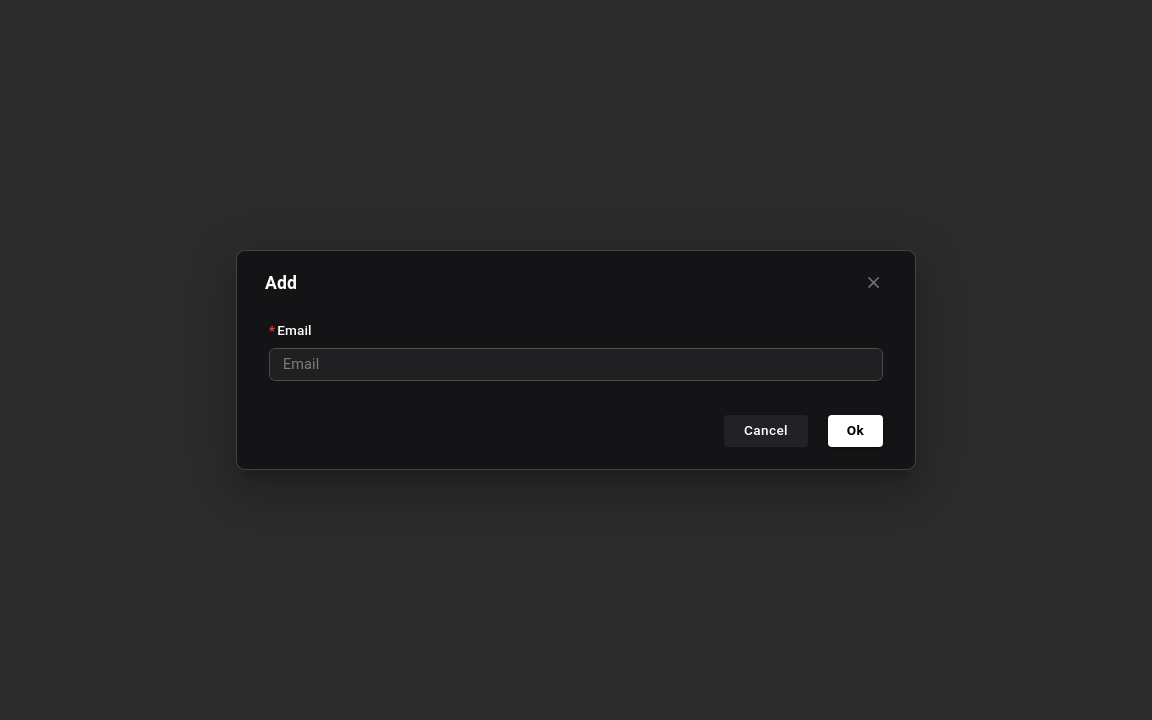
Test case: InviteMemberModal Component › should display a validation message if the user clicks Ok with an empty input
The image size is (1152, 720).
Click the button "Ok": click(856, 431) [828, 415, 883, 447]
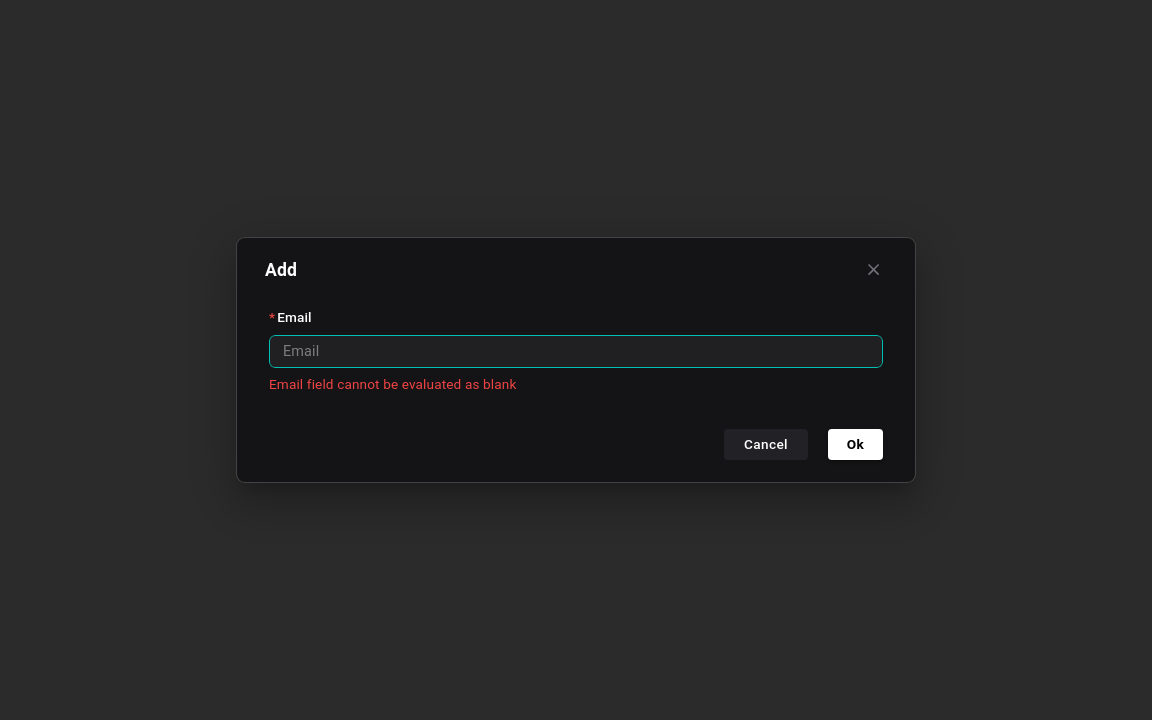
Expected: the text "Email field cannot be evaluated as blank" is shown, [269, 376, 516, 392]
